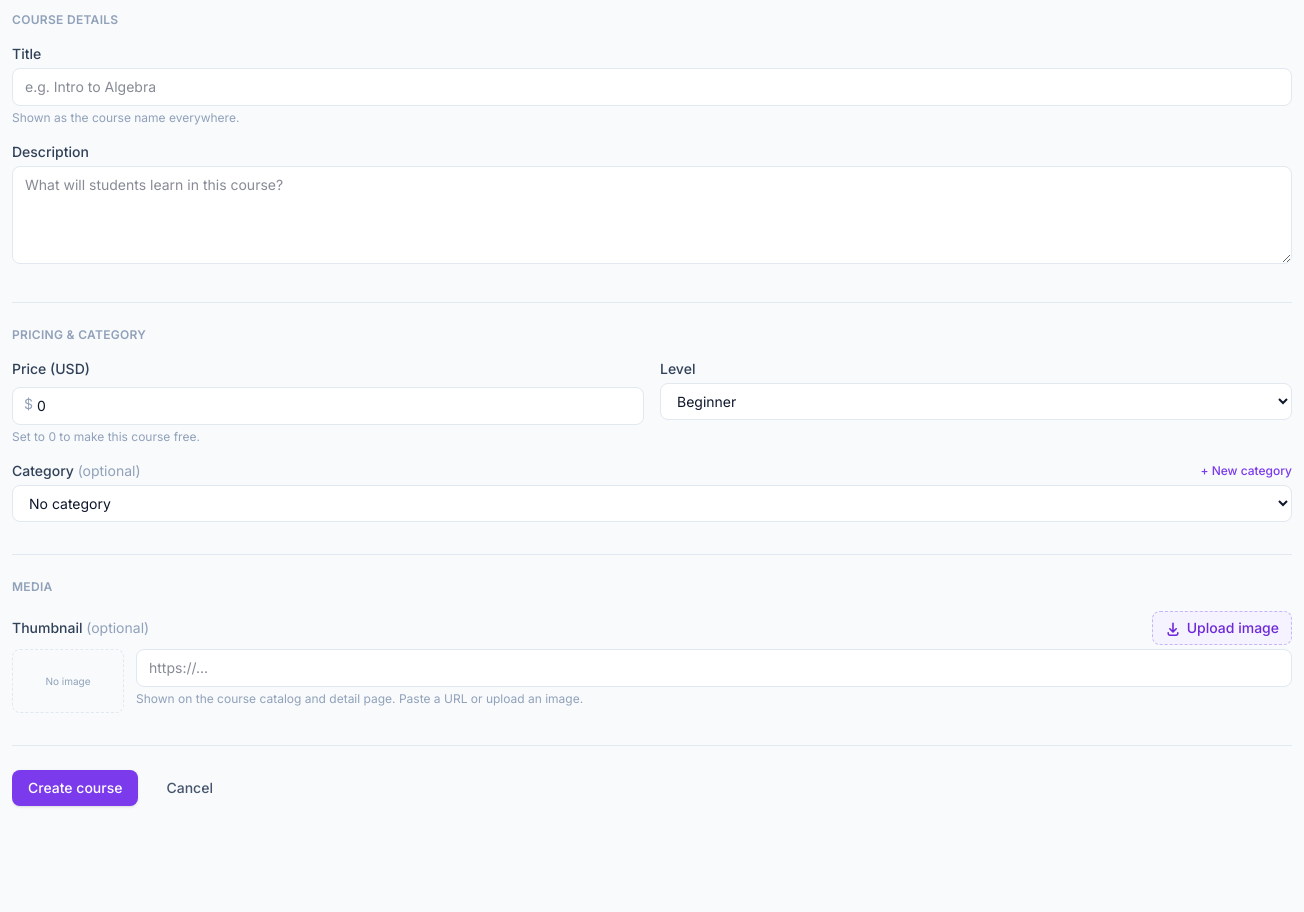
Test: CourseForm › shows validation errors and does not submit for empty required fields
Click the button "Create course" at (75, 788), box x1=12 y1=770 x2=138 y2=806
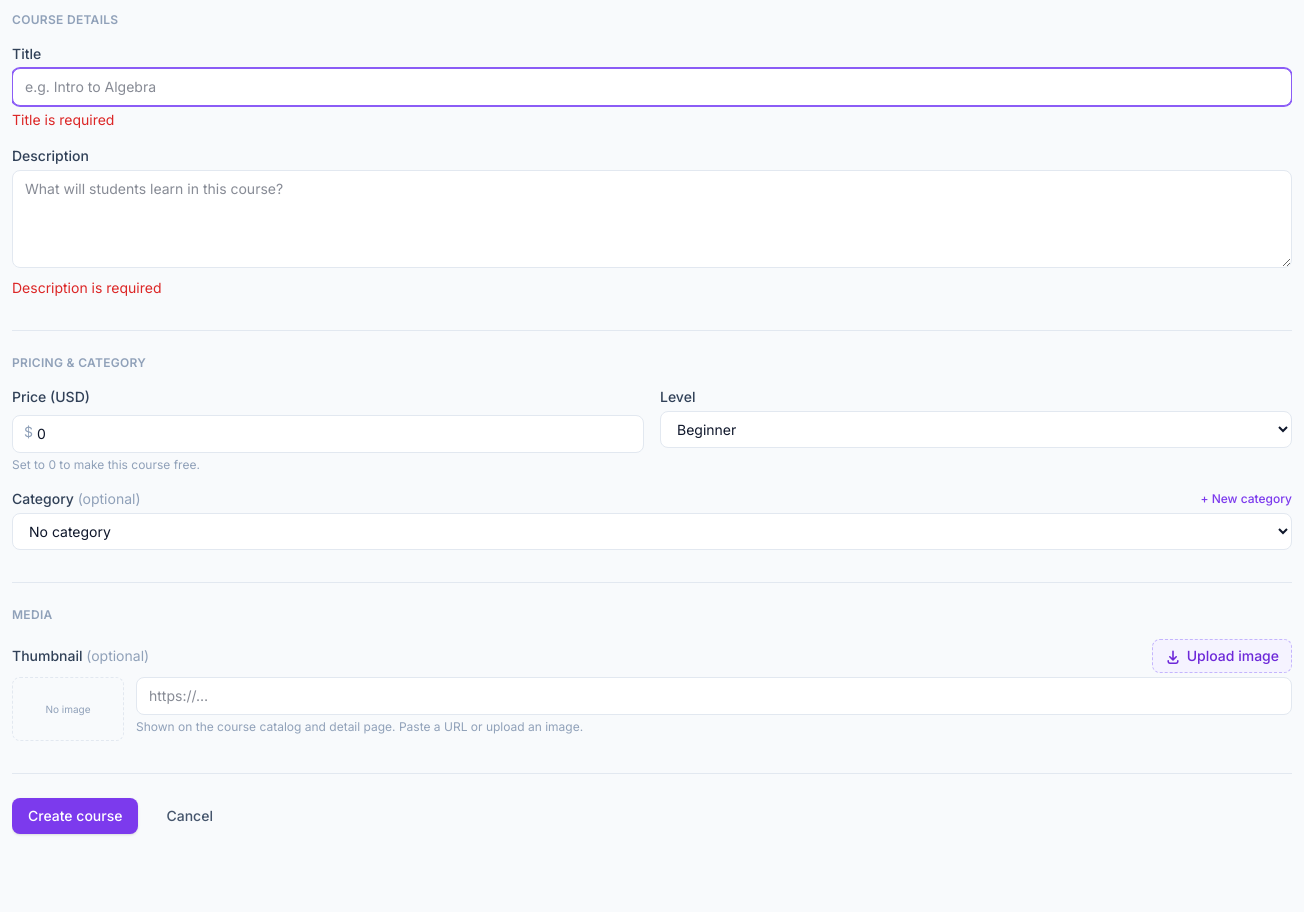
Check: the text "Title is required" is shown, box x1=12 y1=111 x2=114 y2=128
Check: the text "Description is required" is shown, box x1=12 y1=279 x2=162 y2=296
